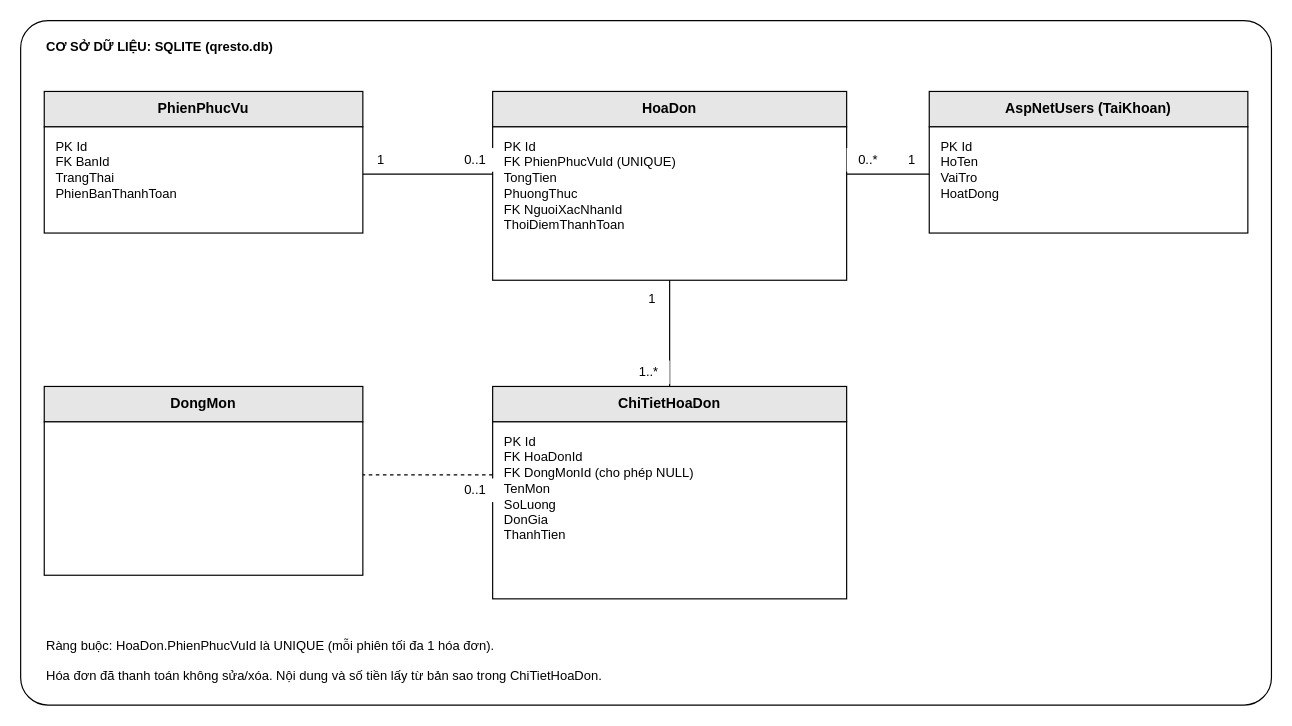
The diagram is 1292 pixels wide and 726 high, and some of its shapes have lost their labels. Here are the shapes that lost their labels. From the top down, the centre of each, then its label:
At [427,459]: "truy vết".
At [203,498]: "PK Id FK DonGoiMonId FK MonAnId SoLuong DonGiaDaLuu TrangThai".
